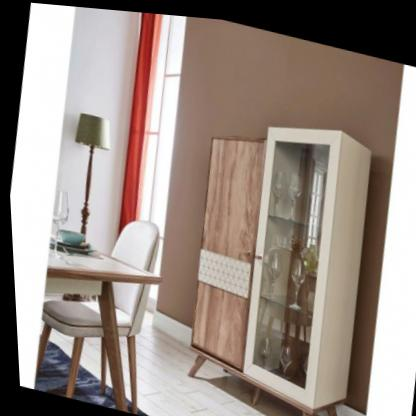Cupboard: (157, 87, 391, 416), (216, 103, 386, 416)
